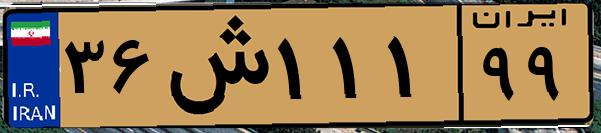1: (270, 28, 330, 110), (385, 28, 445, 110), (330, 28, 385, 110)
3: (57, 26, 110, 100)
6: (110, 28, 158, 98)
9: (475, 38, 525, 113), (525, 38, 570, 115)
ش: (158, 12, 270, 120)
